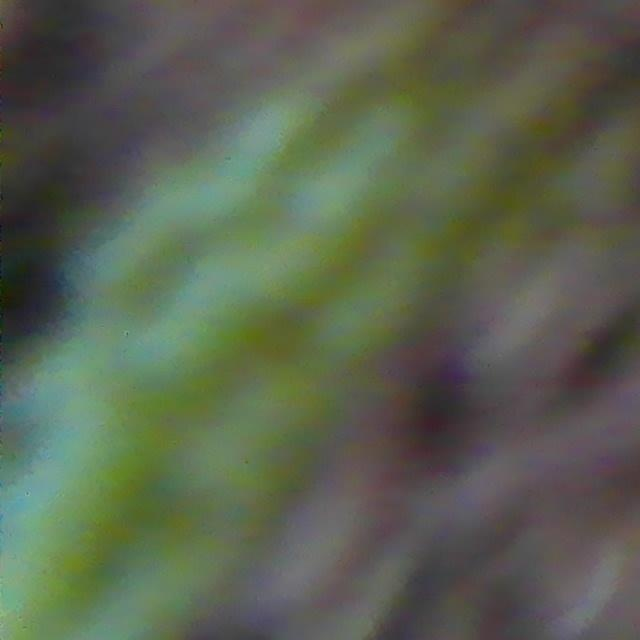SeaGrape: (239, 82, 323, 164)
